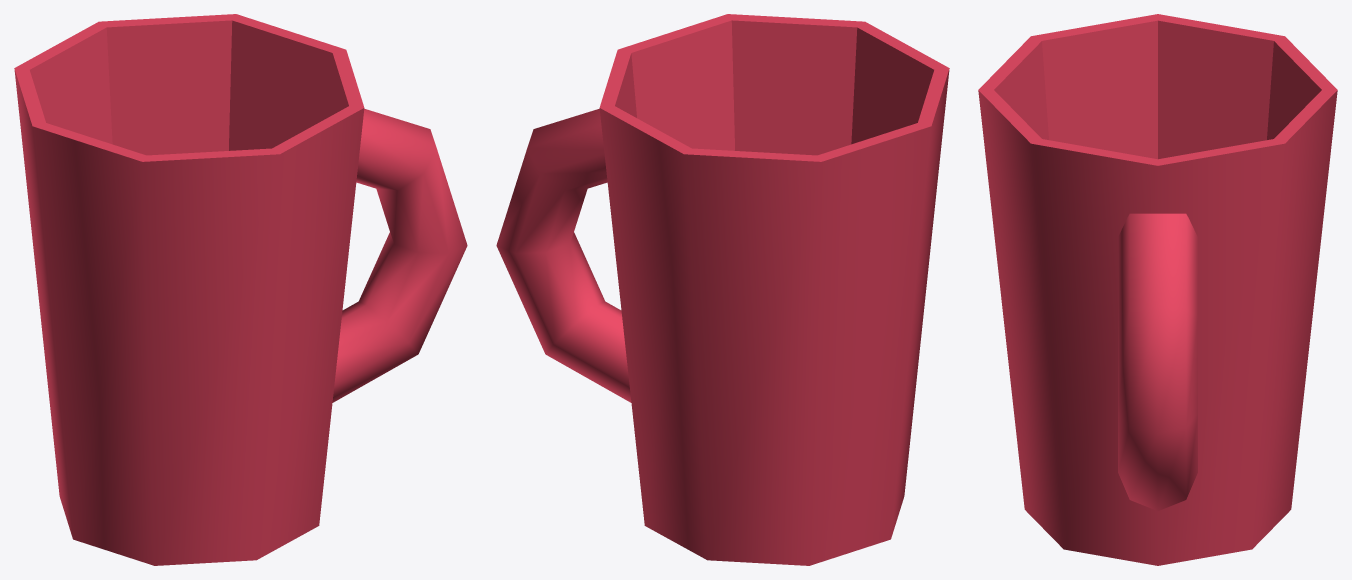
File: Itr_Obj_Cup2_01.FBX
The picture shows the model from 3 angles, left to right: view 1: azimuth 30°, elevation 25°; view 2: azimuth 150°, elevation 25°; view 3: azimuth 270°, elevation 25°; orthographic projection.
Parts seen in each view (by area): view 1: Itr_Obj_Cup2_01; view 2: Itr_Obj_Cup2_01; view 3: Itr_Obj_Cup2_01.
Part boxes in pixels (x1,y1,x2,y2): Itr_Obj_Cup2_01: [14, 14, 467, 565]; Itr_Obj_Cup2_01: [496, 14, 949, 565]; Itr_Obj_Cup2_01: [978, 14, 1337, 565].
Bounding box in the file's own units: 5.97 × 5.6 × 4.35.
